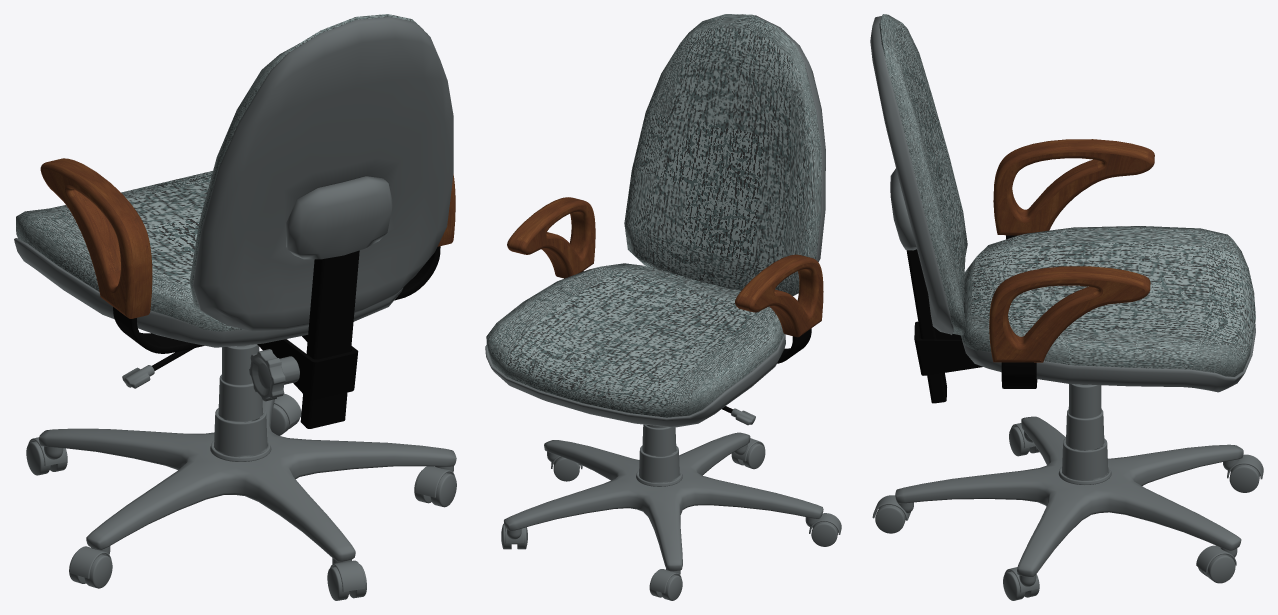
The model's file is officechair.glb.
The picture shows the model from 3 angles, left to right: view 1: azimuth 30°, elevation 25°; view 2: azimuth 150°, elevation 25°; view 3: azimuth 270°, elevation 25°; orthographic projection. The views are drawn at different scales.
Visible parts, largest first — view 1: back, supports.003, cushions.001, supports, base, supports.002, Выдавливание, legs, supports.001, cushions, Шапка_1, Симметрия.1 (+9 smaller); view 2: cushions, cushions.001, supports.003, base, Выдавливание, supports.002, legs, legs.001, back, Шапка_2, Шапка_1, Oil_Tank_3 (+2 smaller); view 3: cushions.001, supports.003, cushions, back, base, supports.002, legs, legs.001, Выдавливание, Шапка_1, Шапка_2, supports.001 (+6 smaller).
Part boxes in pixels (x1=…): back: x1=192, y1=16, x2=453, y2=331; supports.003: x1=39, y1=399, x2=456, y2=561; cushions.001: x1=16, y1=171, x2=242, y2=331; supports: x1=300, y1=250, x2=359, y2=428; base: x1=14, y1=238, x2=402, y2=347; supports.002: x1=210, y1=344, x2=271, y2=461; Выдавливание: x1=47, y1=158, x2=452, y2=318; legs: x1=40, y1=162, x2=455, y2=318; supports.001: x1=257, y1=335, x2=358, y2=400; cushions: x1=189, y1=14, x2=423, y2=321; Шапка_1: x1=41, y1=168, x2=126, y2=312; Симметрия.1: x1=113, y1=246, x2=440, y2=353; cushions: x1=624, y1=14, x2=821, y2=295; cushions.001: x1=486, y1=263, x2=784, y2=417; supports.003: x1=504, y1=432, x2=823, y2=570; base: x1=485, y1=334, x2=785, y2=427; Выдавливание: x1=509, y1=197, x2=812, y2=336; supports.002: x1=636, y1=424, x2=682, y2=486; legs: x1=507, y1=197, x2=823, y2=337; legs.001: x1=520, y1=200, x2=801, y2=333; back: x1=753, y1=15, x2=825, y2=261; Шапка_2: x1=526, y1=205, x2=594, y2=274; Шапка_1: x1=754, y1=262, x2=822, y2=332; Oil_Tank_3: x1=811, y1=521, x2=838, y2=546; cushions.001: x1=961, y1=226, x2=1255, y2=376; supports.003: x1=895, y1=416, x2=1243, y2=576; cushions: x1=879, y1=14, x2=967, y2=335; back: x1=870, y1=16, x2=953, y2=334; base: x1=962, y1=324, x2=1255, y2=392; supports.002: x1=1058, y1=384, x2=1111, y2=484; legs: x1=989, y1=139, x2=1153, y2=362; legs.001: x1=993, y1=146, x2=1154, y2=337; Выдавливание: x1=989, y1=139, x2=1154, y2=343; Шапка_1: x1=994, y1=279, x2=1145, y2=359; Шапка_2: x1=998, y1=152, x2=1149, y2=232; supports.001: x1=914, y1=321, x2=982, y2=375.
Size of the model in its own units: 0.975 by 1.41 by 0.9958.
Materials: 4 (2 with a texture image).
